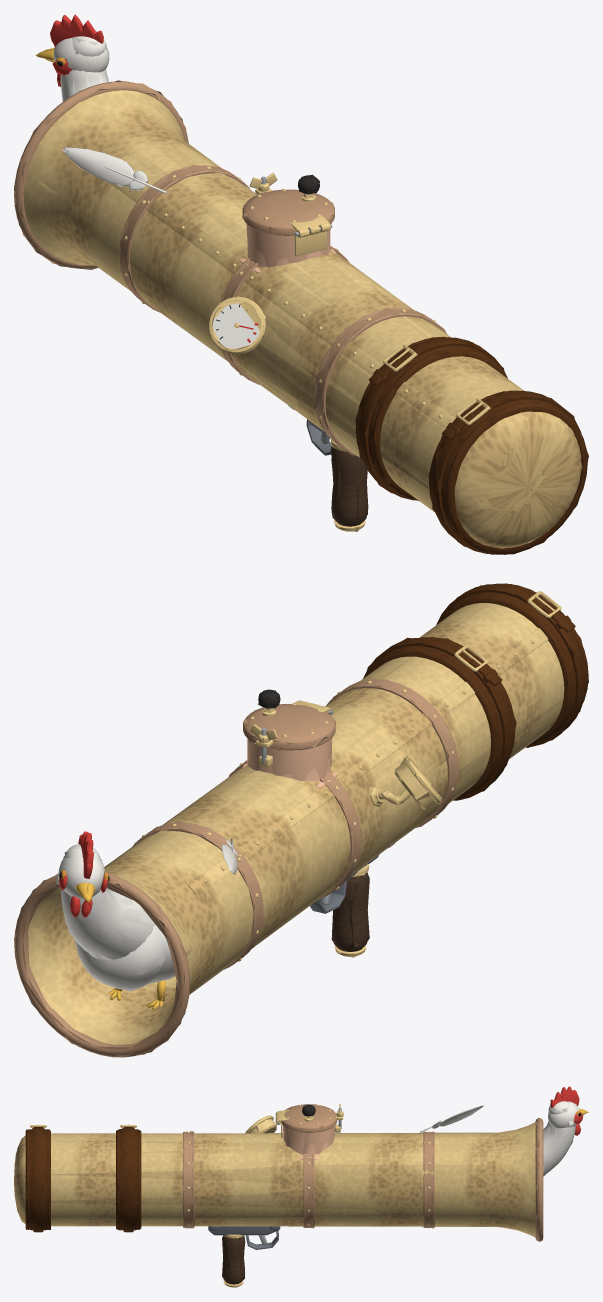
The model's file is gjalinis.glb.
3 views of the same model, one above another, from view 1: azimuth 30°, elevation 25°; view 2: azimuth 150°, elevation 25°; view 3: azimuth 270°, elevation 25° (orthographic). The views are drawn at different scales.
Parts seen in each view (by area): view 1: body, far, frico; view 2: body, far, frico; view 3: body, far, frico.
Boxes of the visible parts, bbox=[...] form: body: bbox=[14, 81, 587, 554]; far: bbox=[14, 14, 588, 554]; frico: bbox=[36, 15, 109, 101]; body: bbox=[14, 583, 588, 1057]; far: bbox=[14, 584, 588, 1057]; frico: bbox=[56, 831, 175, 1009]; body: bbox=[14, 1104, 543, 1287]; far: bbox=[14, 1087, 585, 1287]; frico: bbox=[543, 1086, 588, 1176].
Size of the model in its own units: 0.1911 by 0.2881 by 0.7653.
Materials: 17 (3 with a texture image).
